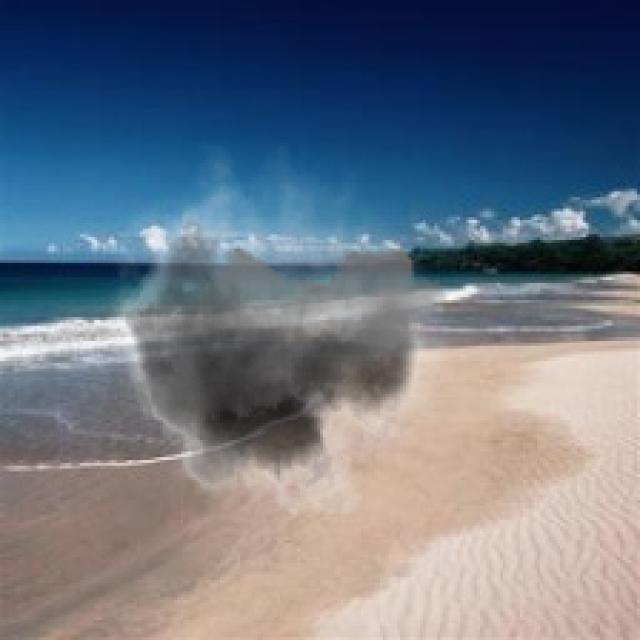Smoke: (94, 142, 449, 538)
